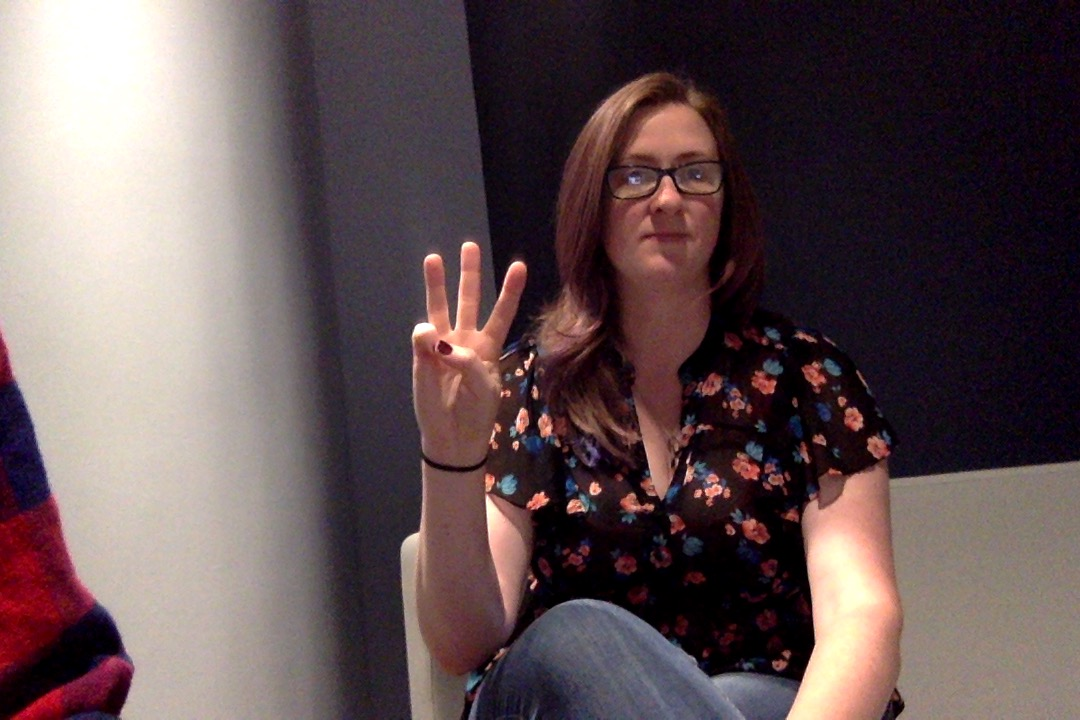w: (389, 237, 529, 478)
